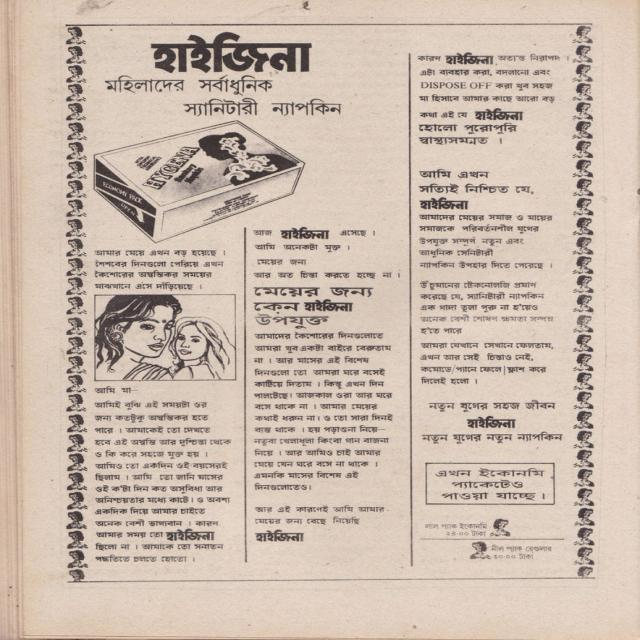advertisement: (60, 24, 598, 584)
